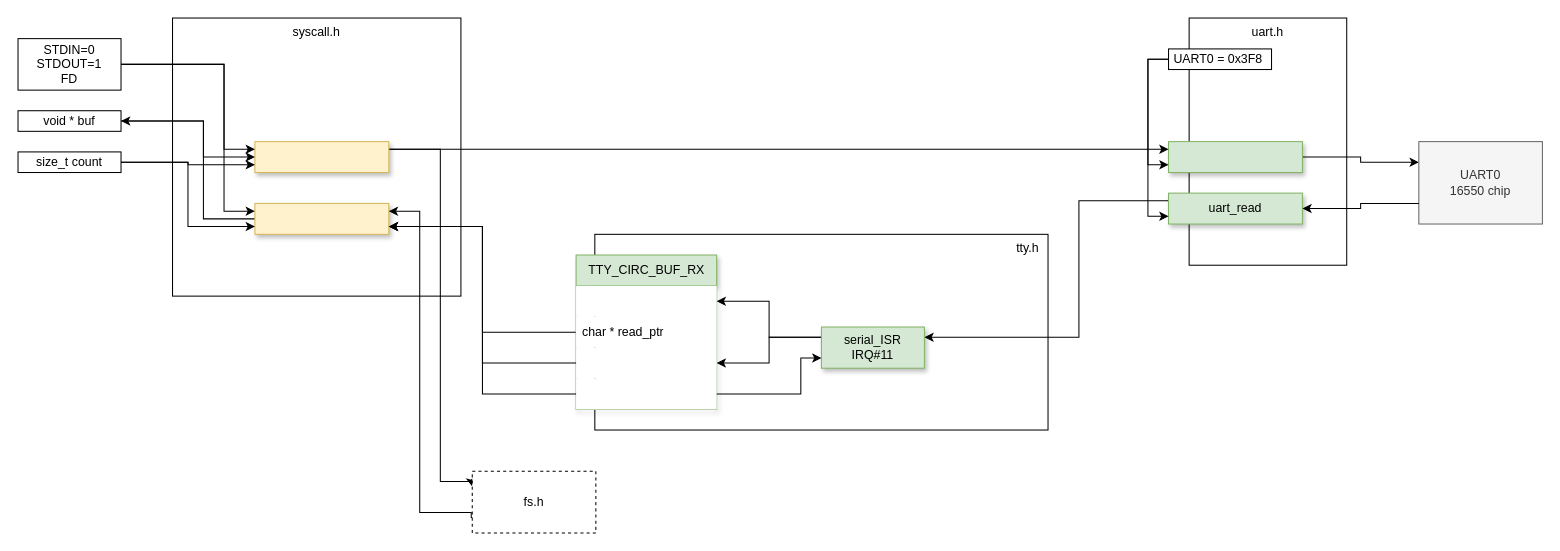
This 1560x551 diagram has some shape labels left out. The shapes that lost their labels are listed below. From the top down, each one's centre as x and y in pixels, then its label:
At (322,158): "sys_write".
At (1236,158): "uart_write".
At (322,220): "sys_read".
At (646,300): "char * write_ptr".
At (646,362): "char * buf".
At (646,393): "int size".
